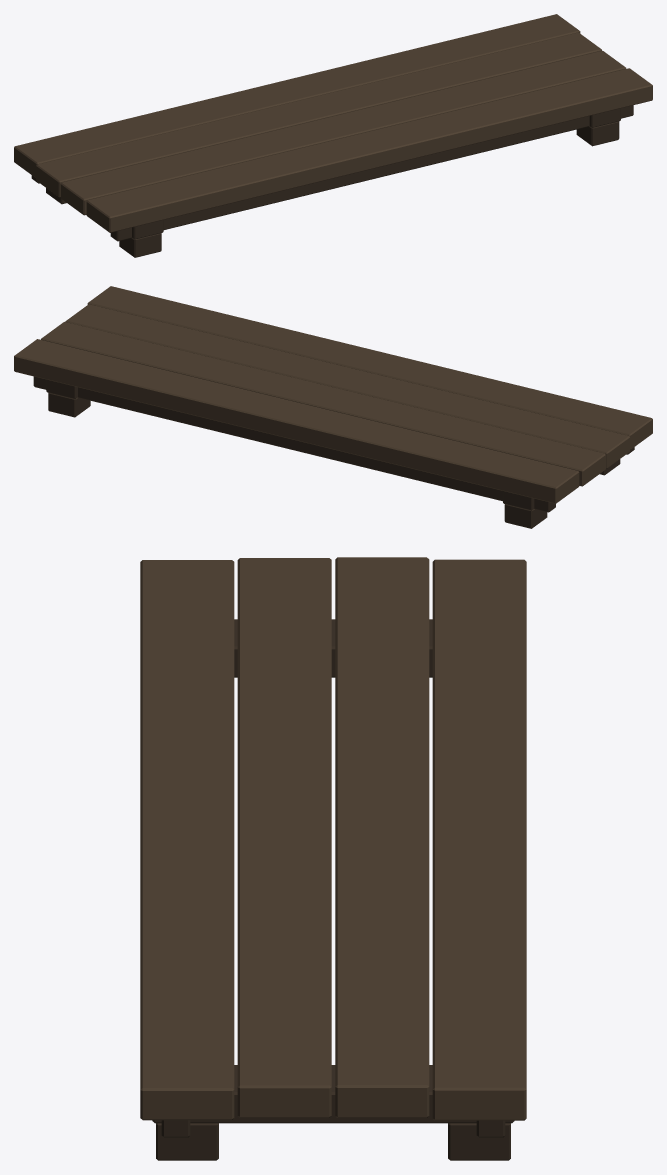
File: bench.glb
3 renders of one model, top to bottom at view 1: azimuth 30°, elevation 25°; view 2: azimuth 150°, elevation 25°; view 3: azimuth 270°, elevation 25°, orthographic. The views are drawn at different scales.
Parts seen in each view (by area): view 1: bench; view 2: bench; view 3: bench.
Part boxes in pixels (<box>): bench: <box>14,14,652,257</box>; bench: <box>14,286,652,528</box>; bench: <box>140,557,526,1160</box>.
Size of the model in its own units: 1.1 by 0.0989 by 0.337.
